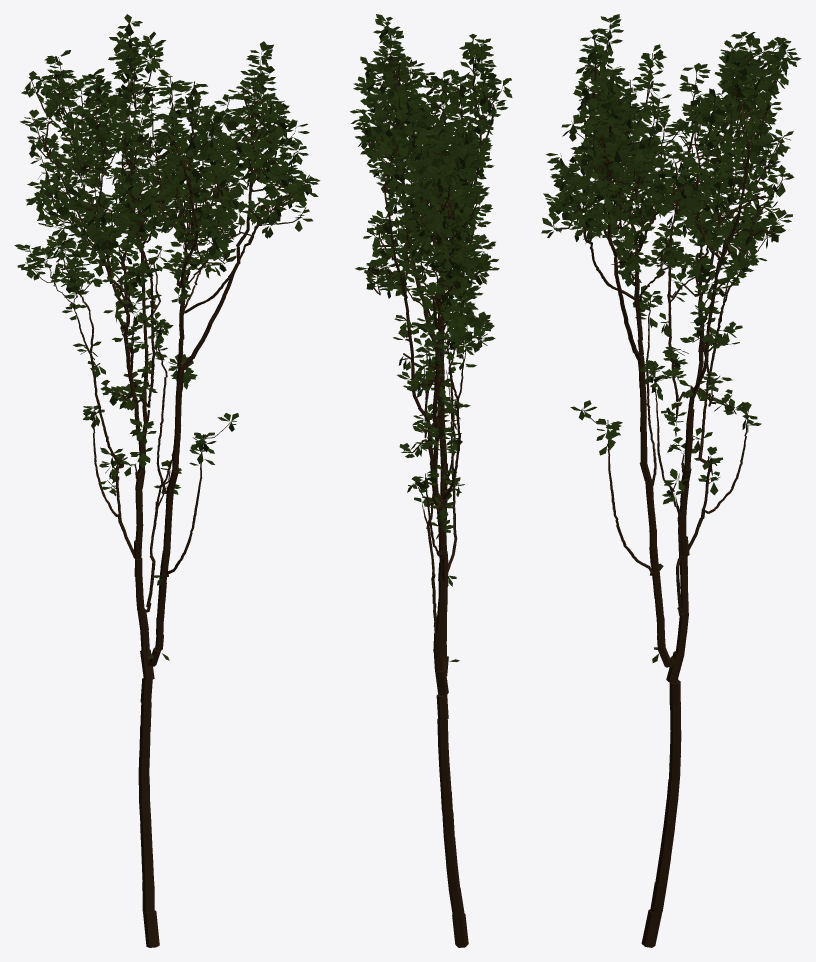
Rendered from tree_138.obj.
3 views of the same model, side by side, from view 1: azimuth 30°, elevation 25°; view 2: azimuth 150°, elevation 25°; view 3: azimuth 270°, elevation 25° (orthographic). The views are drawn at different scales.
Parts seen in each view (by area): view 1: Leaves, TrunkAndBranches; view 2: Leaves, TrunkAndBranches; view 3: Leaves, TrunkAndBranches.
Boxes of the visible parts, <box> form: Leaves: <box>14,14,320,660</box>; TrunkAndBranches: <box>25,20,309,947</box>; Leaves: <box>350,14,512,661</box>; TrunkAndBranches: <box>361,22,504,947</box>; Leaves: <box>541,14,801,662</box>; TrunkAndBranches: <box>553,23,787,947</box>.
Bounding box in the file's own units: 5.62 × 22.05 × 5.6.
